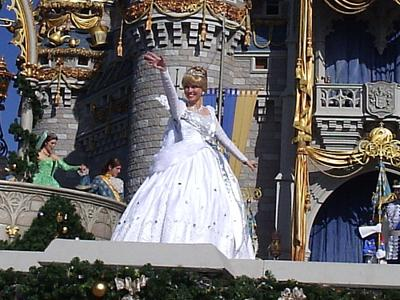person: (111, 53, 257, 260)
